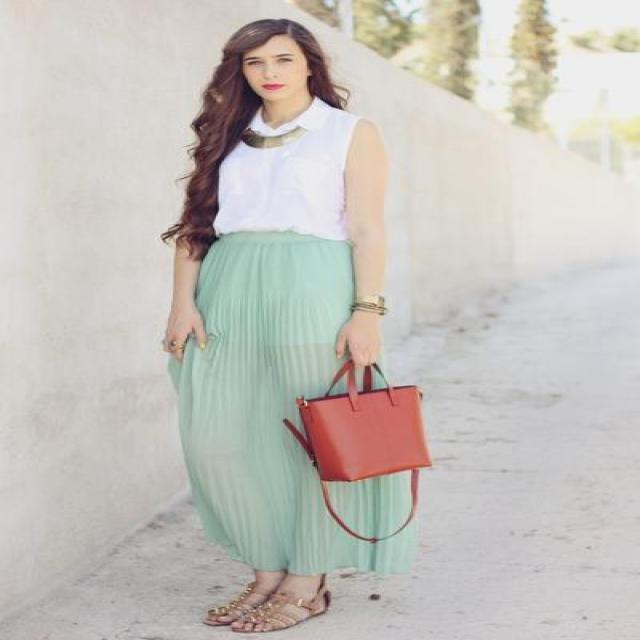bag: (284, 346, 431, 524)
shirt: (214, 98, 350, 239)
shoe: (211, 566, 325, 632)
skirt: (165, 228, 418, 589)
